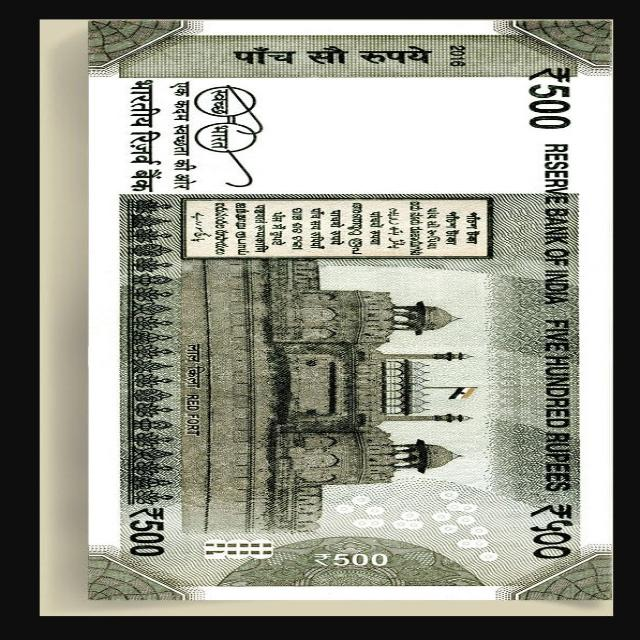500IndianRupees: (36, 22, 612, 613)
